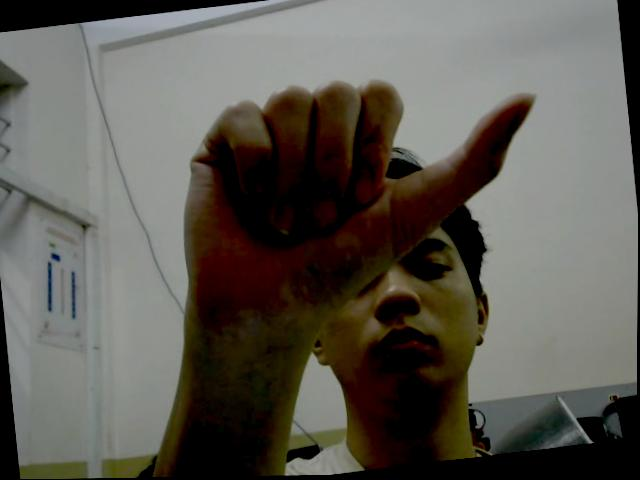A: (162, 56, 560, 356)
